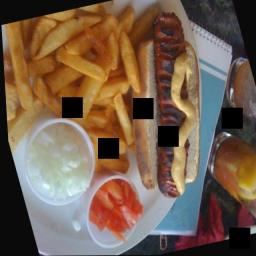hotdog: (0, 0, 200, 197), (100, 7, 230, 203)
